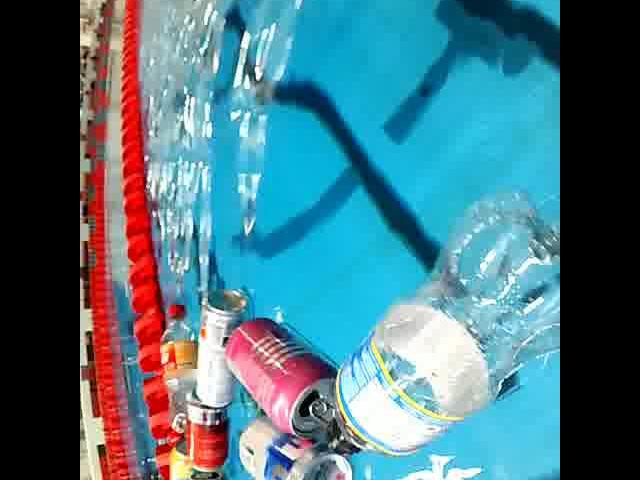Bottle: (315, 180, 560, 467), (156, 296, 202, 436)
Can: (224, 314, 344, 438), (234, 411, 360, 480), (192, 282, 256, 410), (182, 386, 226, 476), (169, 432, 195, 480)
